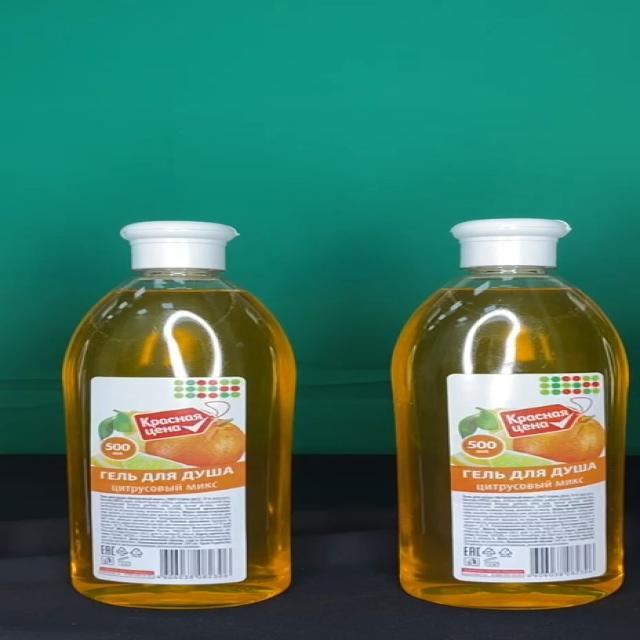Bottle: (390, 219, 630, 610), (60, 221, 298, 610)
Cap: (450, 219, 573, 268), (119, 222, 240, 270)
